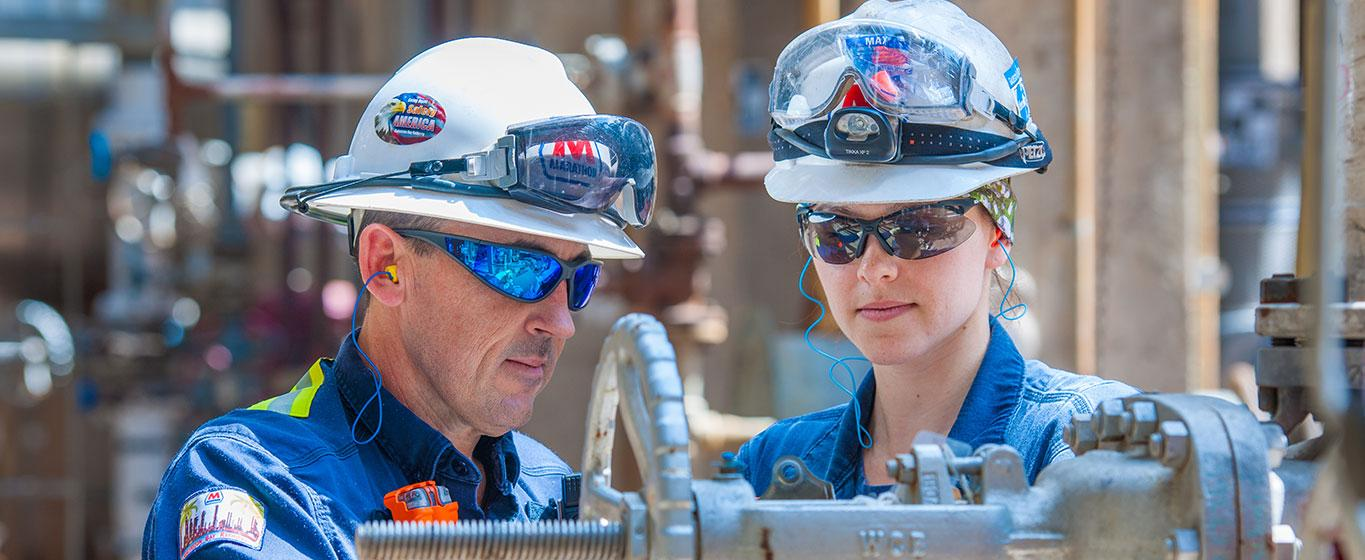helmet: (288, 40, 647, 268), (764, 1, 1057, 200)
